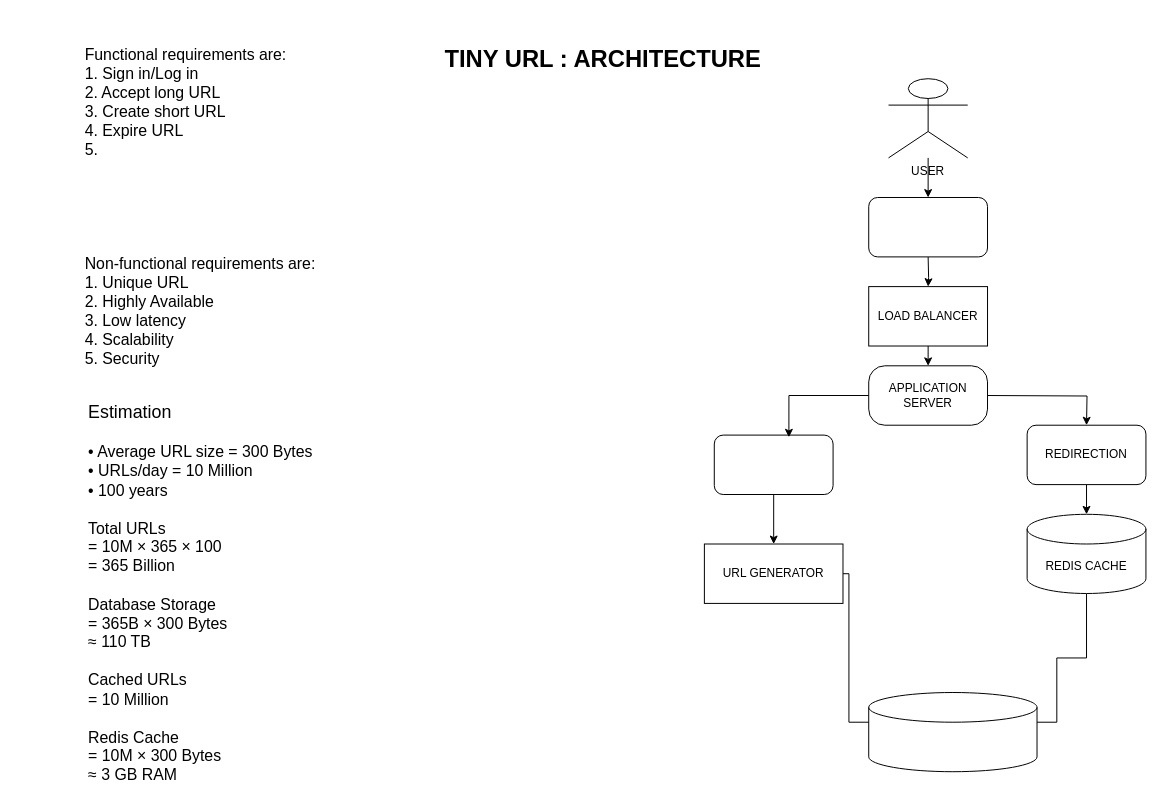
Some shapes in this 1163 by 802 pixel diagram are drawn without their labels. Each missing label, with the box of its shape:
API/GATEWAY: (868, 197, 988, 257)
DATABASE: (868, 692, 1037, 772)
SHORT URL CREATION: (713, 434, 833, 495)
